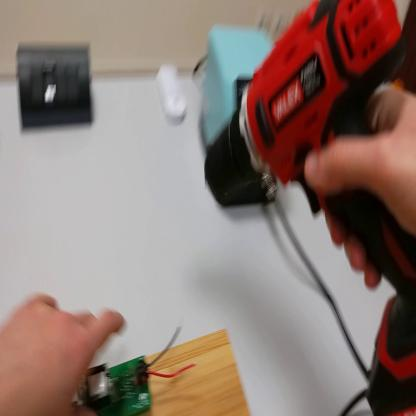electric screwdriver: (205, 3, 416, 416)
hand: (306, 80, 415, 288), (2, 291, 130, 415)
high voltage board: (94, 312, 214, 416)
welder station: (198, 27, 284, 210)
working area: (82, 329, 251, 415)
